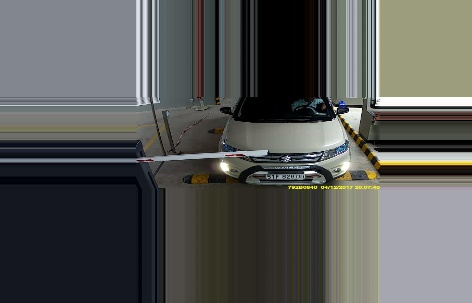plate: (263, 169, 304, 181)
